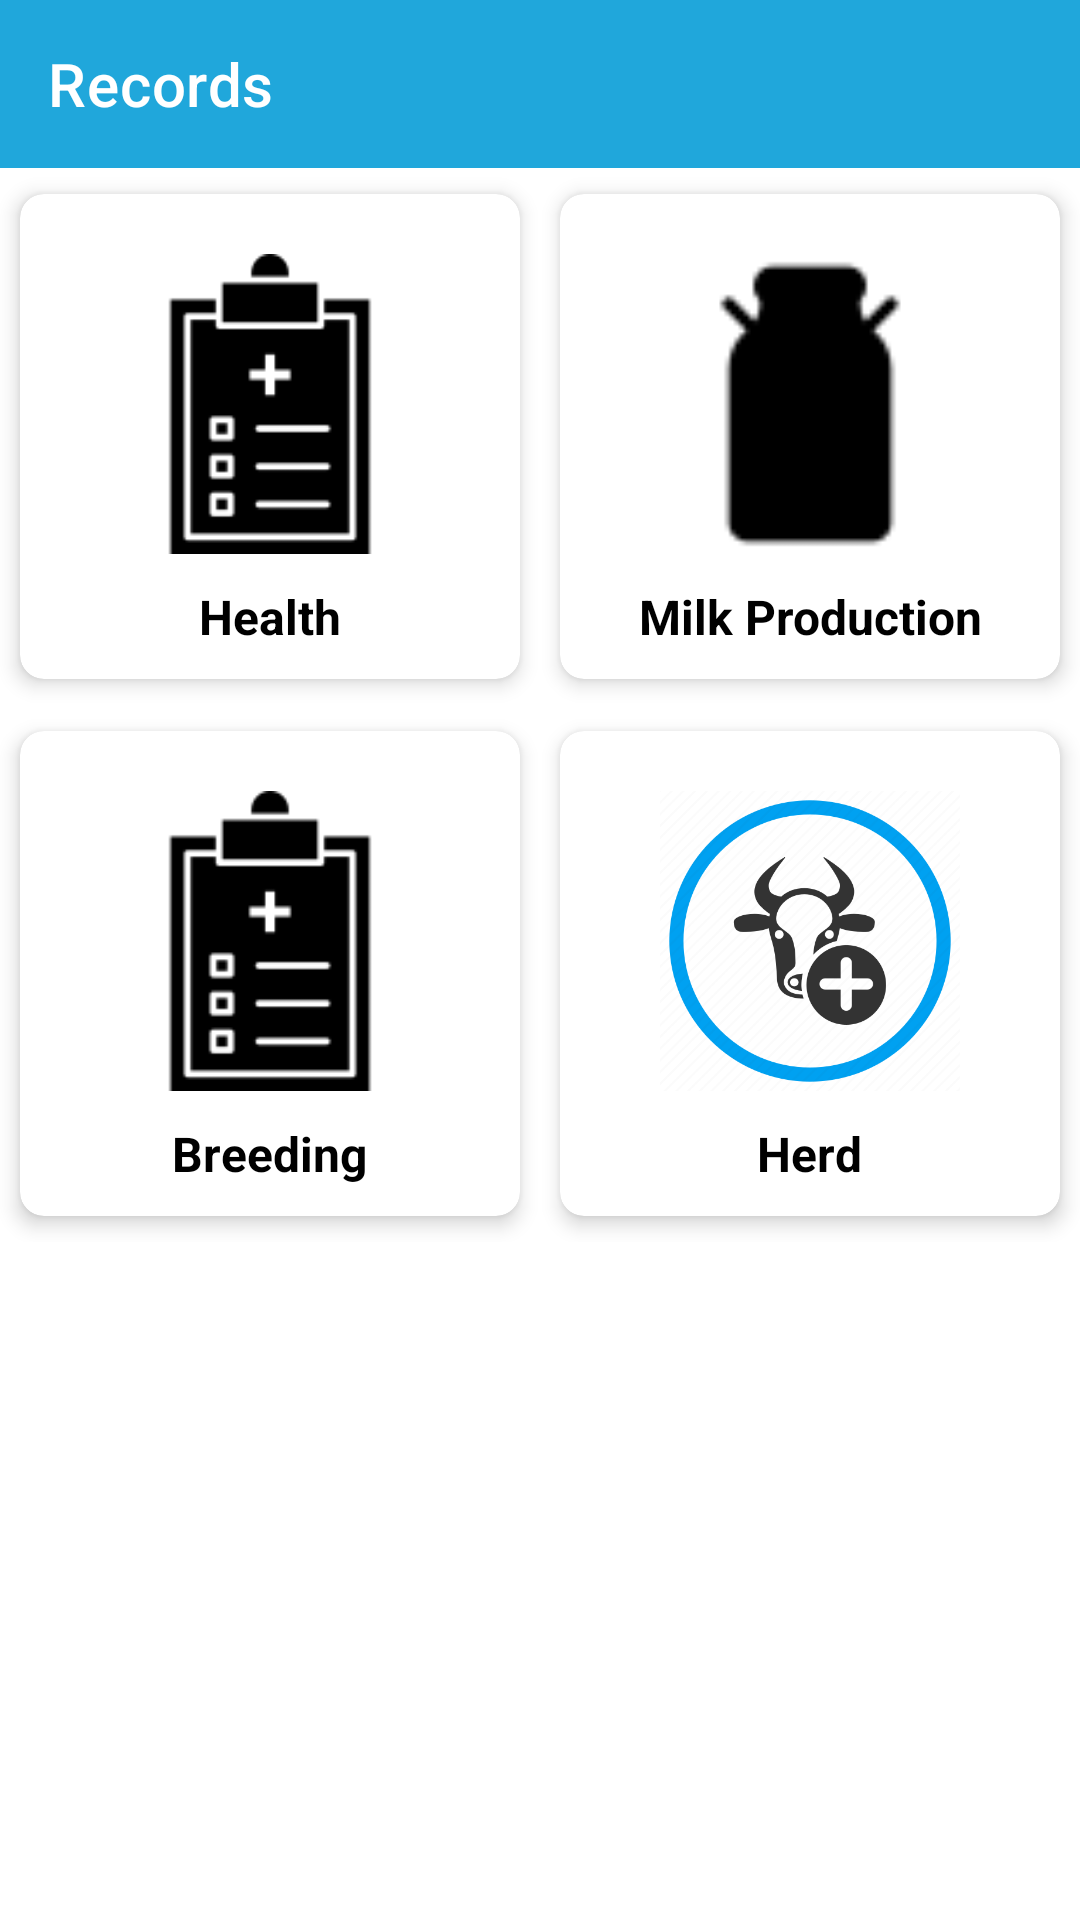

Named icons in this screenshot (1080×1920) and their bounding boxes, bbox(x1, y1, x2, y2):
add cattle: bbox(669, 800, 951, 1082)
